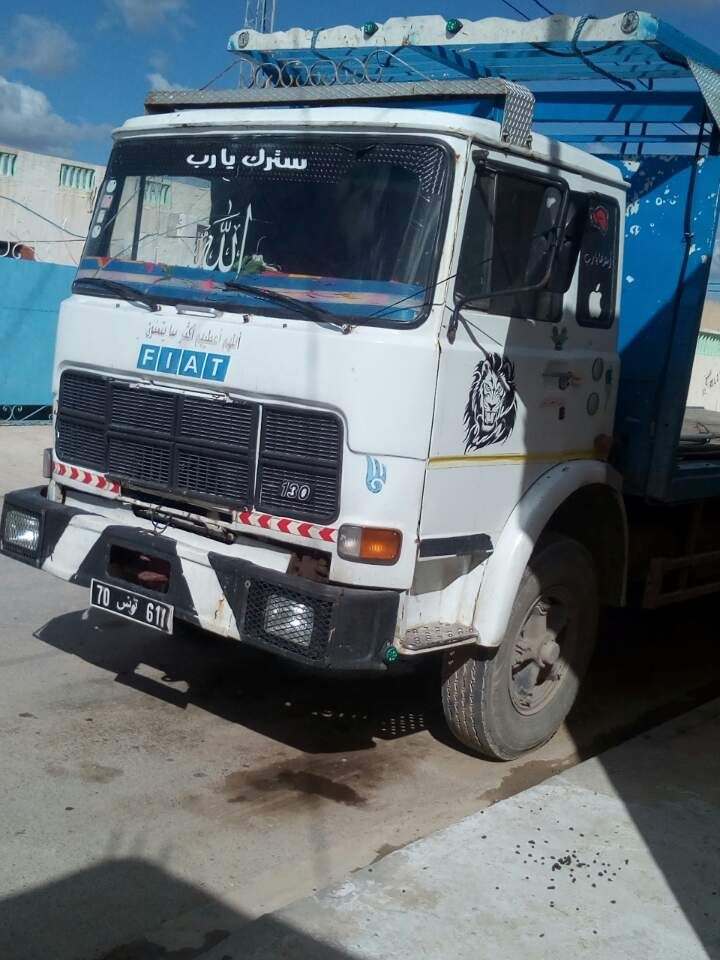LP: (88, 576, 172, 632)
